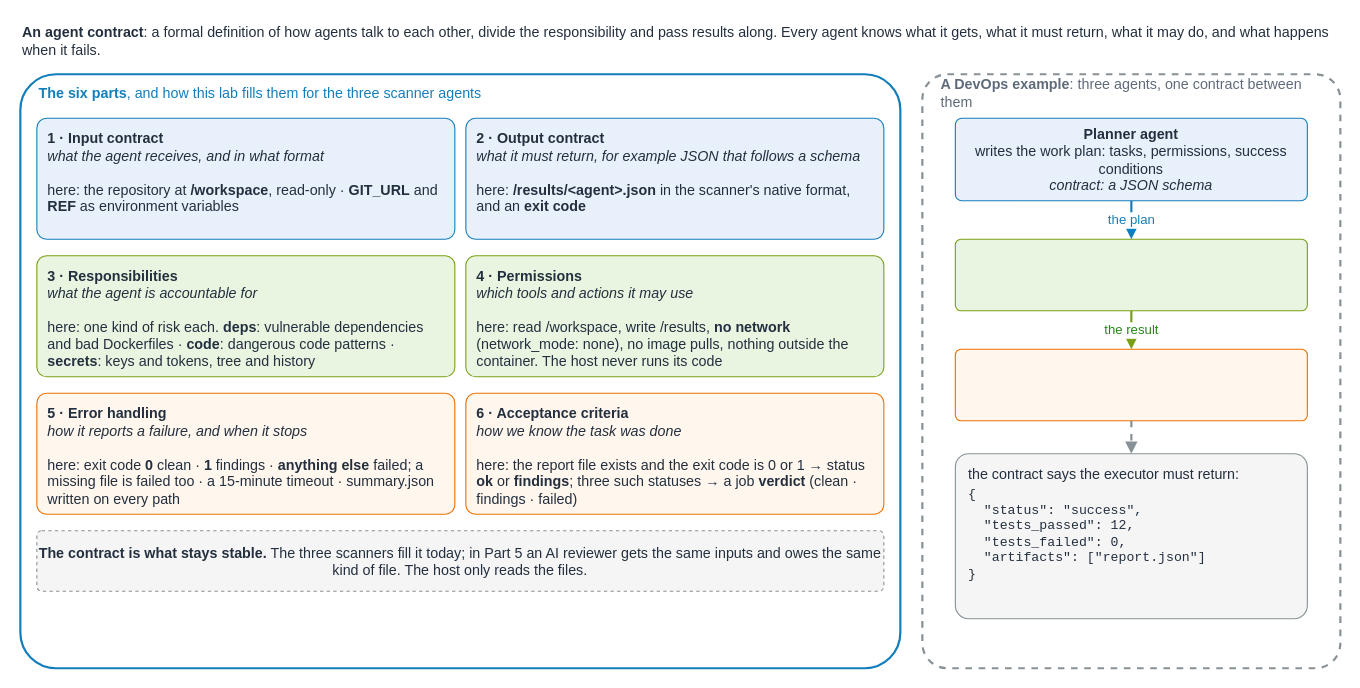
This 1360x688 diagram has some shape labels left out. The shapes that lost their labels are listed below. From the top down, each one's centre as x and y in pixels, then its label:
pixel 1130 274: Executor agent runs the plan and returns a structured result
pixel 1130 384: Reviewer agent checks the result against the acceptance criteria
